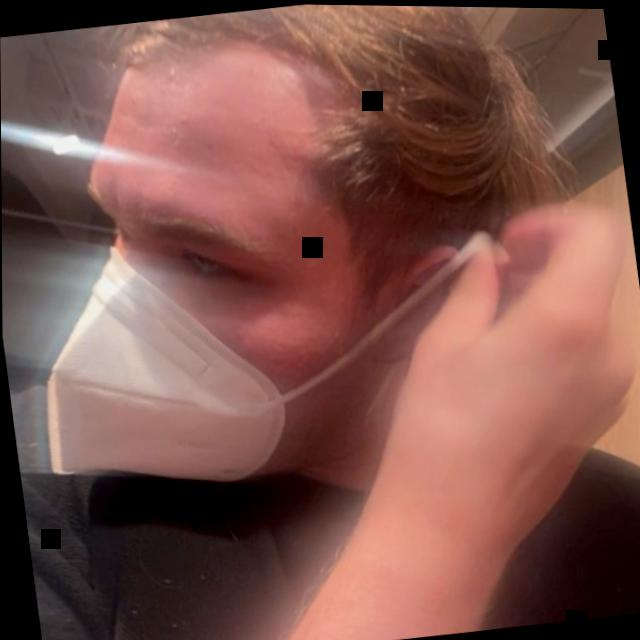Mask: (0, 0, 573, 501)
